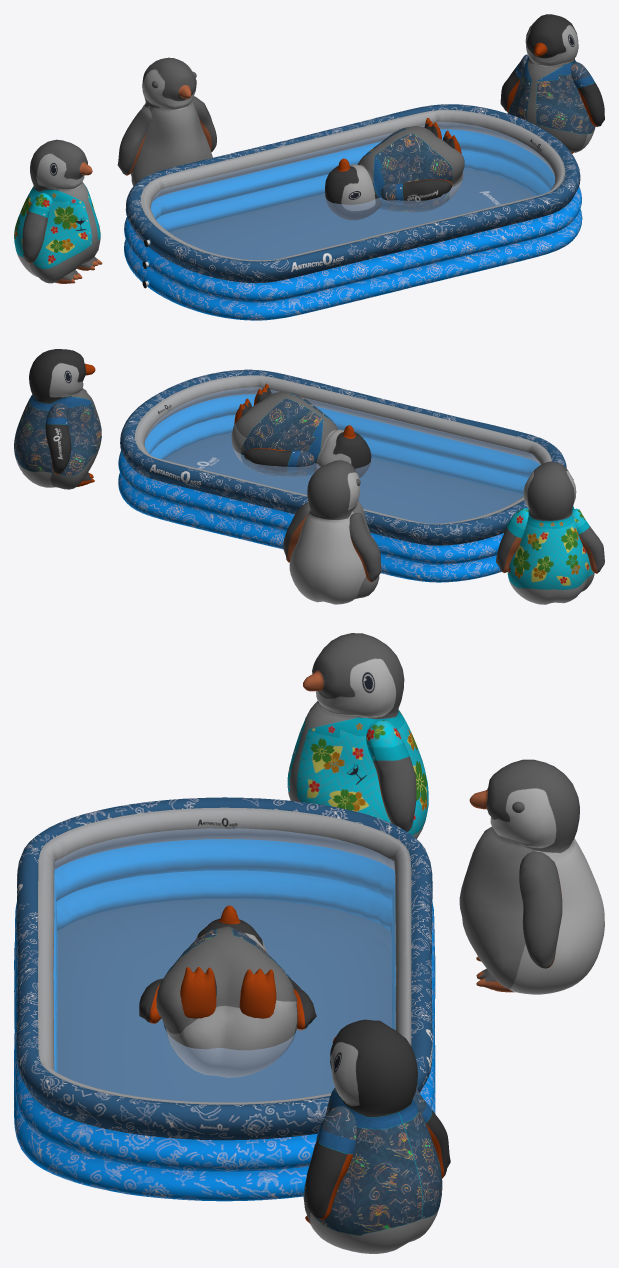
Rendered from inflatable_pool.glb.
3 views of the same model, one above another, from view 1: azimuth 30°, elevation 25°; view 2: azimuth 150°, elevation 25°; view 3: azimuth 270°, elevation 25° (orthographic). The views are drawn at different scales.
Visible parts, largest first — view 1: Inflatable Penguin Pool_0, Pool Water Textured_4, Inflatable Penguin C.001_5, Inflatable Penguin B_1, Inflatable Penguin C_3, Inflatable Penguin A_2; view 2: Inflatable Penguin Pool_0, Pool Water Textured_4, Inflatable Penguin B_1, Inflatable Penguin A_2, Inflatable Penguin C_3, Inflatable Penguin C.001_5; view 3: Inflatable Penguin Pool_0, Pool Water Textured_4, Inflatable Penguin A_2, Inflatable Penguin C_3, Inflatable Penguin B_1, Inflatable Penguin C.001_5.
Part boxes in pixels (left/top/right/bottom): Inflatable Penguin Pool_0: left=124, top=104, right=582, bottom=320; Pool Water Textured_4: left=151, top=122, right=554, bottom=259; Inflatable Penguin C.001_5: left=325, top=118, right=464, bottom=220; Inflatable Penguin B_1: left=14, top=139, right=102, bottom=283; Inflatable Penguin C_3: left=500, top=14, right=604, bottom=153; Inflatable Penguin A_2: left=117, top=57, right=216, bottom=185; Inflatable Penguin Pool_0: left=118, top=369, right=566, bottom=582; Pool Water Textured_4: left=144, top=387, right=540, bottom=523; Inflatable Penguin B_1: left=496, top=461, right=604, bottom=604; Inflatable Penguin A_2: left=283, top=460, right=381, bottom=604; Inflatable Penguin C_3: left=14, top=349, right=101, bottom=489; Inflatable Penguin C.001_5: left=231, top=383, right=371, bottom=477; Inflatable Penguin Pool_0: left=14, top=797, right=435, bottom=1201; Pool Water Textured_4: left=53, top=828, right=395, bottom=1101; Inflatable Penguin A_2: left=459, top=759, right=604, bottom=994; Inflatable Penguin C_3: left=303, top=1019, right=450, bottom=1253; Inflatable Penguin B_1: left=287, top=633, right=428, bottom=838; Inflatable Penguin C.001_5: left=139, top=905, right=316, bottom=1077.
Size of the model in its own units: 5.68 by 1.26 by 3.13.
5 materials, 5 textured.
